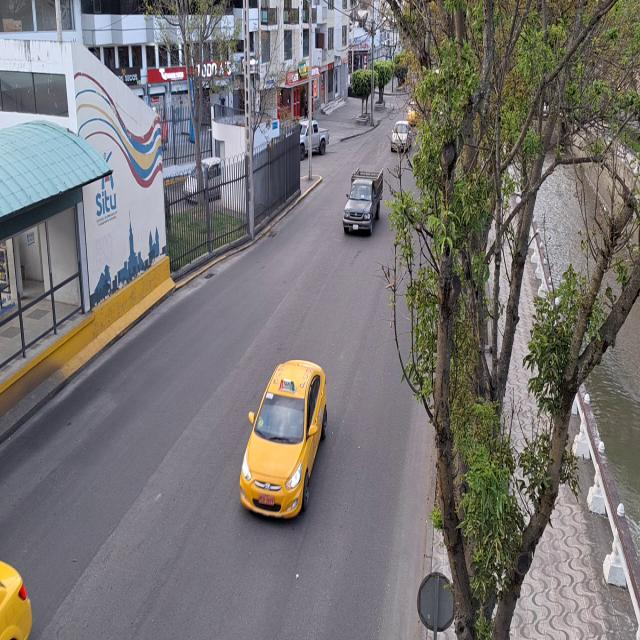CMT: (344, 169, 382, 237)
SED: (246, 358, 322, 524)
